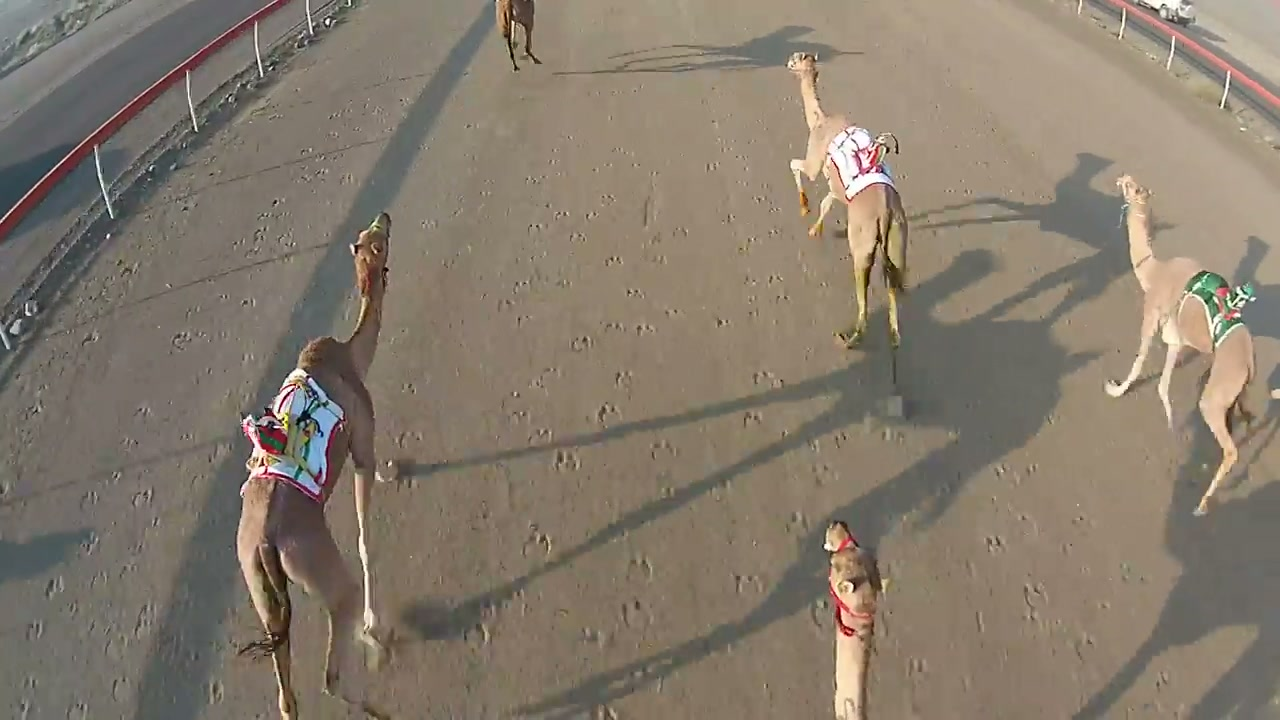animal_footprint: (437, 46, 755, 719)
